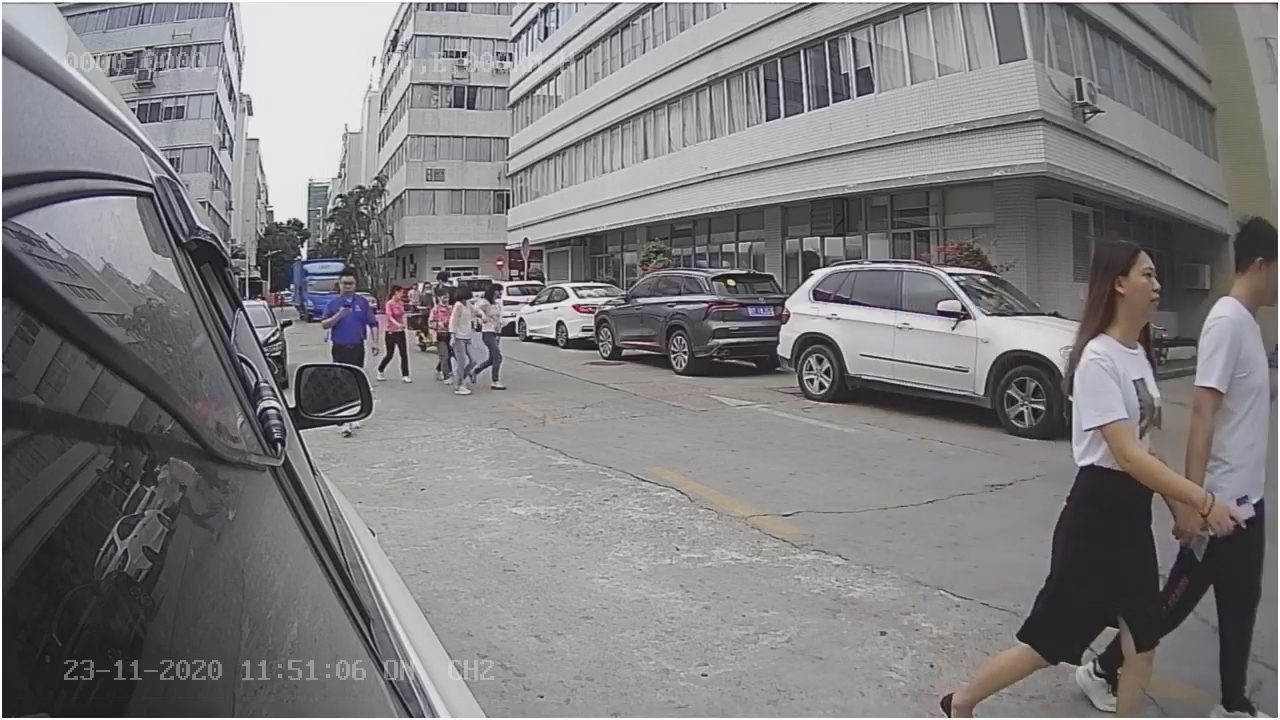person: (1044, 238, 1177, 497)
